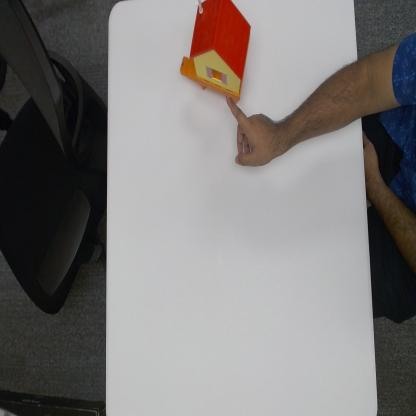Arm: (283, 59, 361, 143)
Hand: (225, 93, 281, 171)
House: (181, 0, 252, 100)
